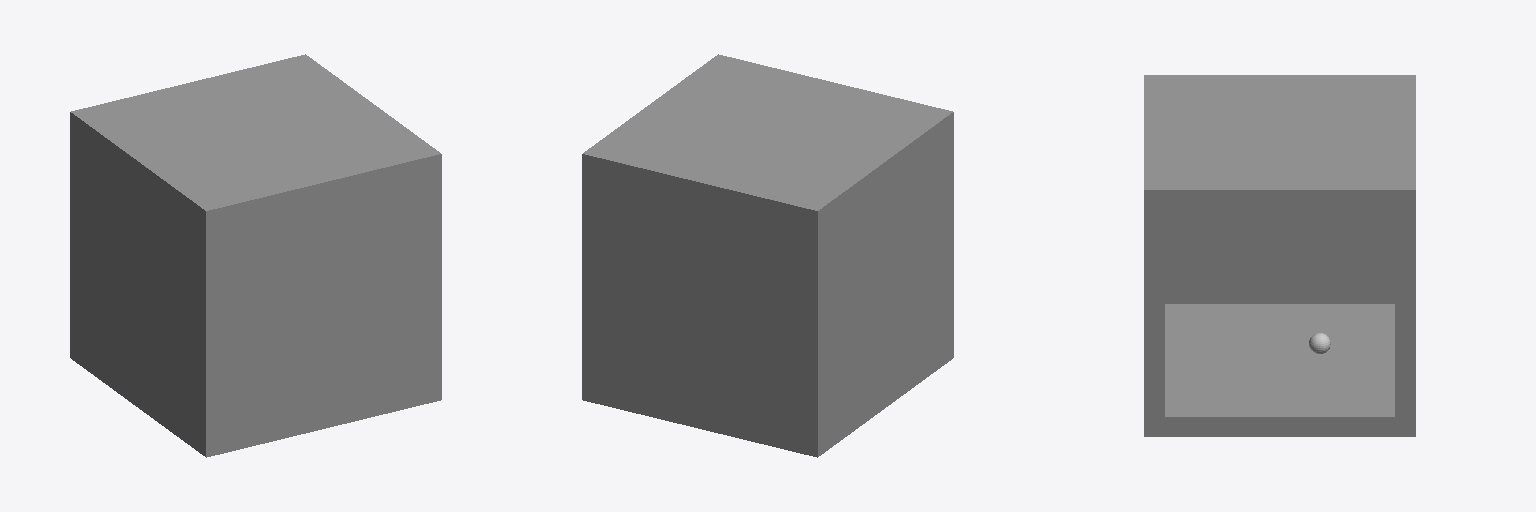
Rendered from 1pdk.obj.
The picture shows the model from 3 angles: view 1: azimuth 30°, elevation 25°; view 2: azimuth 150°, elevation 25°; view 3: azimuth 270°, elevation 25°; orthographic projection.
Visible parts, largest first — view 1: Cube; view 2: Cube; view 3: Cube.
Boxes of the visible parts, x1=… form: Cube: x1=70, y1=54, x2=441, y2=457; Cube: x1=582, y1=54, x2=953, y2=457; Cube: x1=1144, y1=75, x2=1415, y2=436.
Bounding box in the file's own units: 2 × 2 × 2.